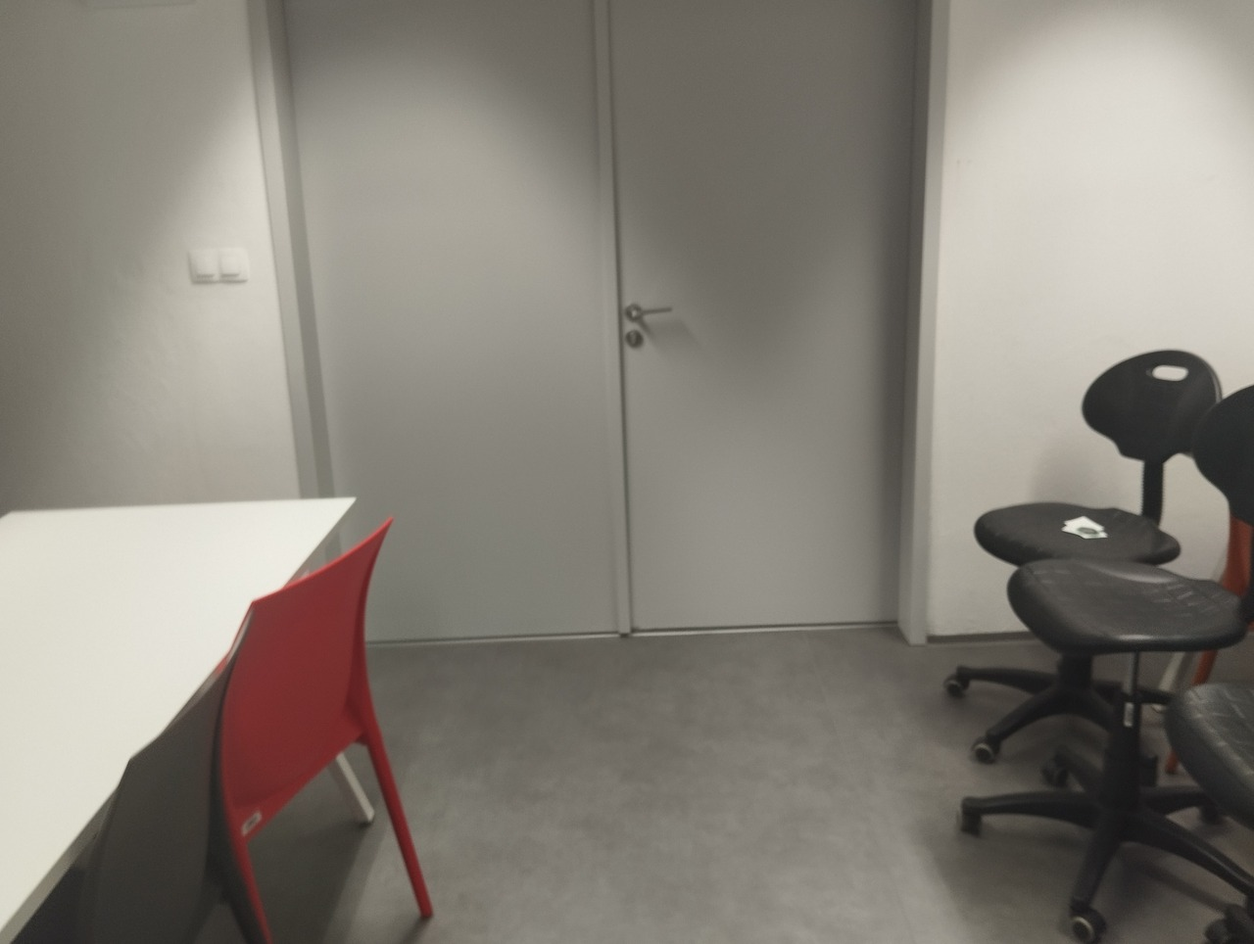Door-handle: (1068, 918, 1095, 942)
